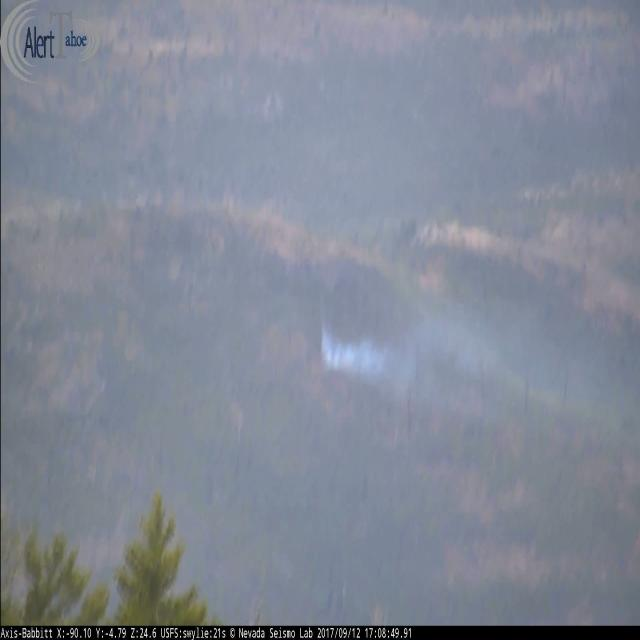smoke: (319, 314, 456, 382)
